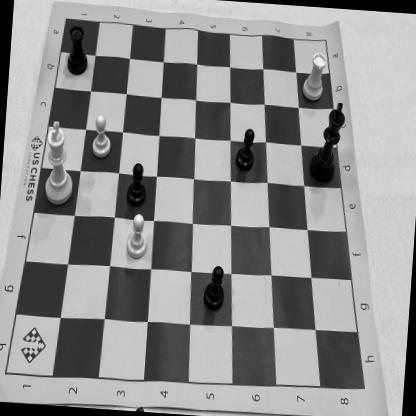king: (36, 114, 83, 212), (304, 97, 350, 192)
pawn: (196, 258, 230, 318), (229, 122, 261, 177), (122, 210, 154, 264), (87, 112, 117, 165), (121, 157, 152, 208)
rook: (60, 19, 94, 82), (298, 47, 330, 109)
